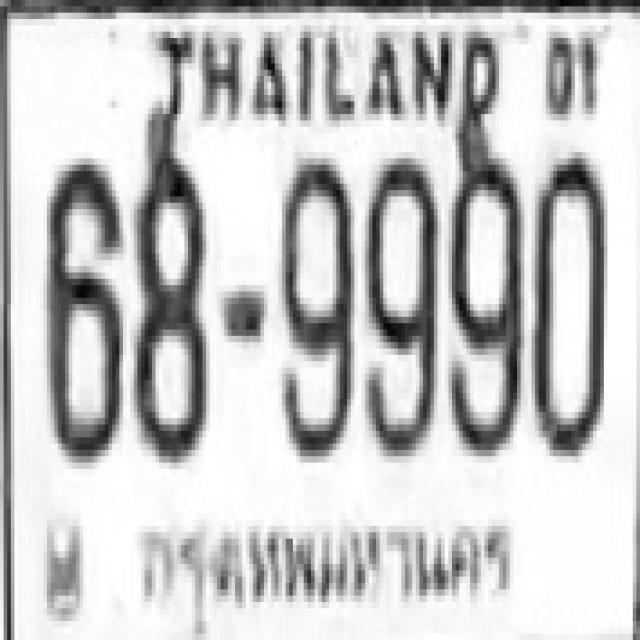0: (530, 152, 606, 450)
6: (44, 152, 120, 456)
8: (130, 140, 206, 456)
9: (446, 139, 519, 450), (278, 152, 351, 450), (361, 152, 434, 450)
BKK: (131, 504, 520, 610)
